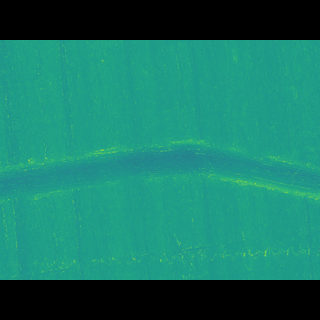Loch: (0, 142, 320, 194)
